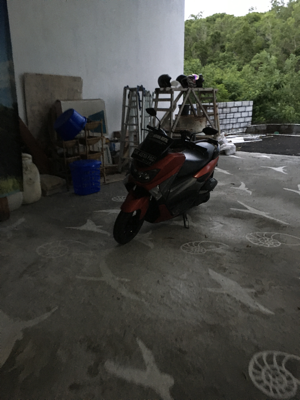moto: (109, 118, 222, 249)
